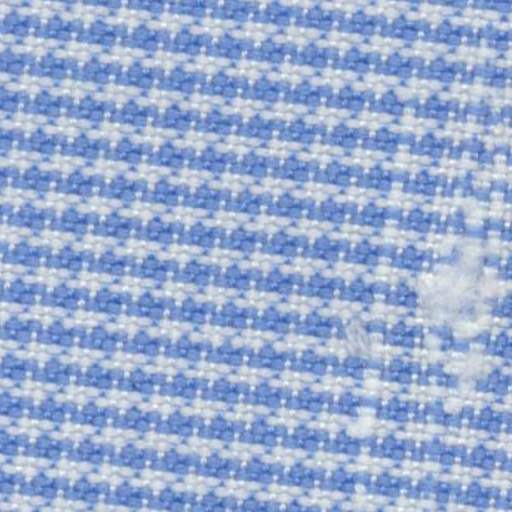MianQiu: (428, 256, 496, 338)
